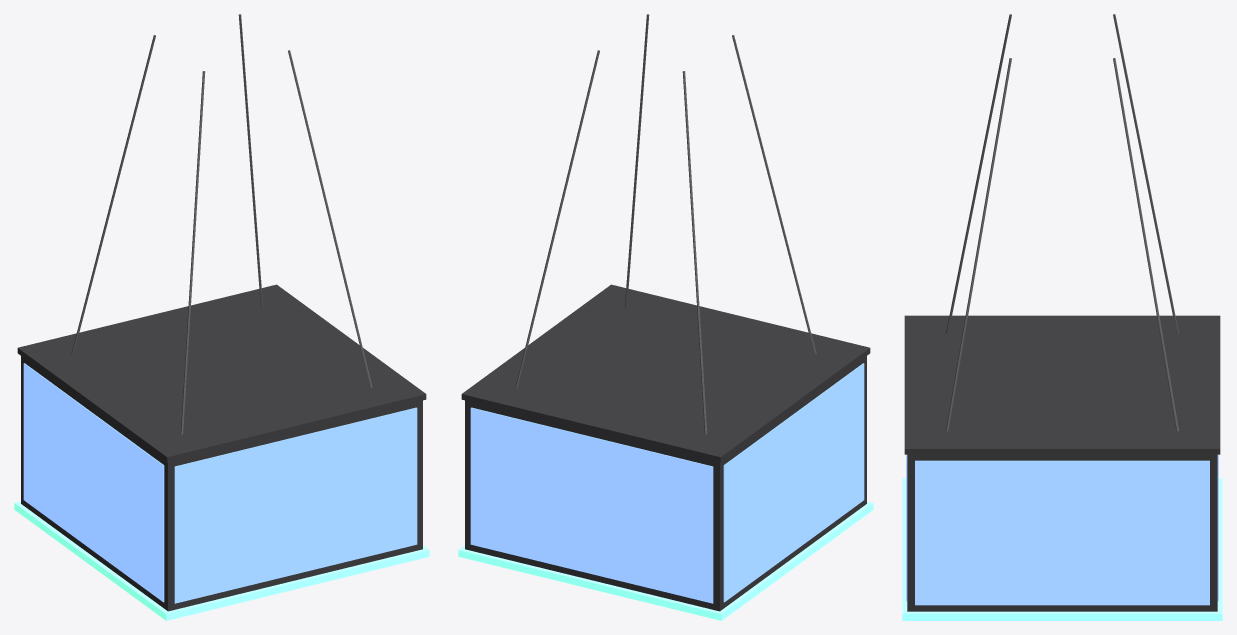
The model's file is CenterScreen.glb.
The picture shows the model from 3 angles, left to right: view 1: azimuth 30°, elevation 25°; view 2: azimuth 150°, elevation 25°; view 3: azimuth 270°, elevation 25°; orthographic projection. The views are drawn at different scales.
Parts seen in each view (by area): view 1: TopCap, Face0, Face3, Core, Rim, Cable-1-1, Cable1-1, Cable-11, Cable11; view 2: TopCap, Face2, Face3, Core, Rim, Cable-11, Cable11, Cable-1-1, Cable1-1; view 3: TopCap, Face1, Core, Rim, Cable1-1, Cable11, Cable-1-1, Cable-11.
Part boxes in pixels (left/top/right/bottom): TopCap: left=17, top=284, right=426, bottom=462; Face0: left=174, top=407, right=417, bottom=603; Face3: left=23, top=363, right=164, bottom=602; Core: left=21, top=356, right=422, bottom=611; Rim: left=14, top=501, right=429, bottom=620; Cable-1-1: left=180, top=71, right=205, bottom=434; Cable1-1: left=288, top=50, right=372, bottom=388; Cable-11: left=71, top=35, right=155, bottom=354; Cable11: left=238, top=14, right=263, bottom=308; TopCap: left=461, top=284, right=870, bottom=462; Face2: left=470, top=407, right=713, bottom=603; Face3: left=723, top=363, right=864, bottom=602; Core: left=465, top=356, right=866, bottom=611; Rim: left=458, top=501, right=873, bottom=620; Cable-11: left=682, top=71, right=707, bottom=434; Cable11: left=515, top=50, right=599, bottom=388; Cable-1-1: left=732, top=35, right=816, bottom=354; Cable1-1: left=624, top=14, right=649, bottom=308; TopCap: left=904, top=315, right=1220, bottom=454; Face1: left=915, top=460, right=1209, bottom=605; Core: left=907, top=454, right=1217, bottom=611; Rim: left=902, top=478, right=1222, bottom=620; Cable1-1: left=946, top=58, right=1011, bottom=431; Cable11: left=1113, top=58, right=1178, bottom=431; Cable-1-1: left=946, top=14, right=1011, bottom=333; Cable-11: left=1113, top=14, right=1178, bottom=333.
Bounding box in the file's own units: 2.48 × 4.41 × 2.48.
